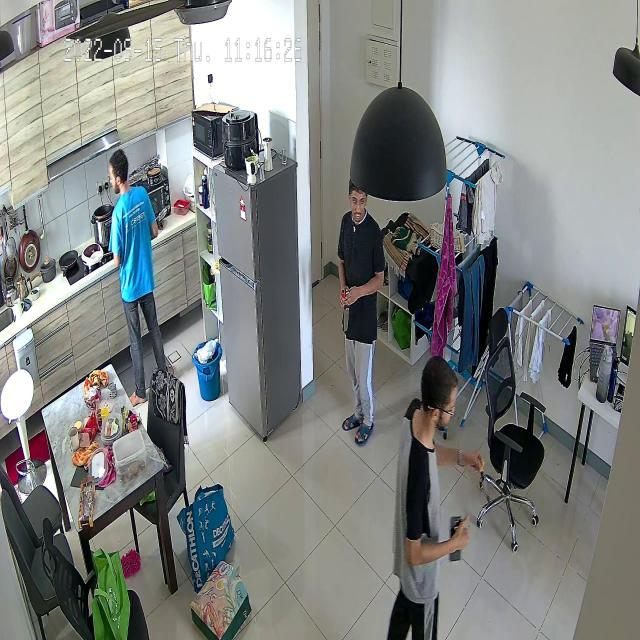Knife: (338, 285, 360, 340)
